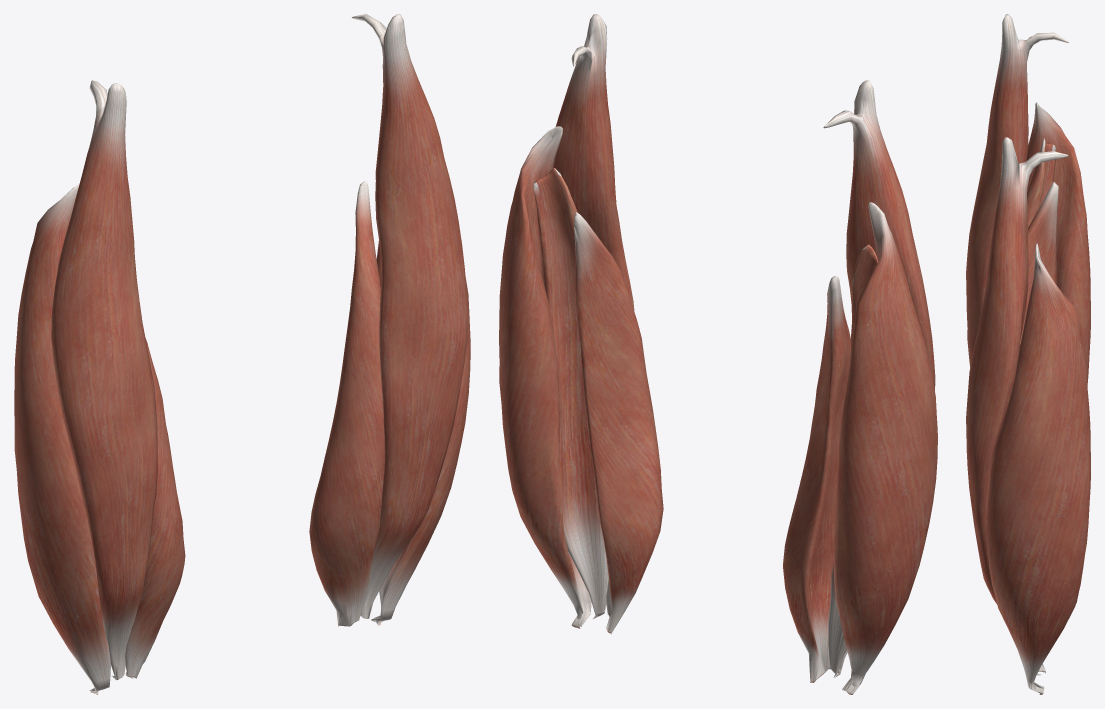
The model's file is quadriceps.glb.
3 views of the same model, side by side, from view 1: azimuth 30°, elevation 25°; view 2: azimuth 150°, elevation 25°; view 3: azimuth 270°, elevation 25° (orthographic). The views are drawn at different scales.
Visible parts, largest first — view 1: Rectus femoris.r, Rectus femoris.l, Vastus lateralis muscle.r, Vastus medialis muscle.l, Vastus medialis muscle.r, Vastus lateralis muscle.l; view 2: Vastus lateralis muscle.r, Vastus medialis muscle.l, Vastus lateralis muscle.l, Vastus intermedius muscle.l, Vastus medialis muscle.r, Rectus femoris.l, Rectus femoris.r, Vastus intermedius muscle.r; view 3: Vastus lateralis muscle.l, Rectus femoris.l, Rectus femoris.r, Vastus lateralis muscle.r, Vastus medialis muscle.r, Vastus intermedius muscle.r.
Part boxes in pixels (bbox=[...]): Rectus femoris.r: bbox=[51, 80, 157, 680]; Rectus femoris.l: bbox=[352, 14, 467, 618]; Vastus lateralis muscle.r: bbox=[14, 184, 110, 694]; Vastus medialis muscle.l: bbox=[309, 181, 384, 626]; Vastus medialis muscle.r: bbox=[125, 338, 185, 678]; Vastus lateralis muscle.l: bbox=[371, 241, 470, 626]; Vastus lateralis muscle.r: bbox=[833, 202, 937, 694]; Vastus medialis muscle.l: bbox=[574, 212, 663, 634]; Vastus lateralis muscle.l: bbox=[499, 126, 591, 628]; Vastus intermedius muscle.l: bbox=[533, 168, 608, 619]; Vastus medialis muscle.r: bbox=[783, 276, 851, 682]; Rectus femoris.l: bbox=[553, 14, 634, 618]; Rectus femoris.r: bbox=[823, 80, 935, 677]; Vastus intermedius muscle.r: bbox=[828, 244, 878, 677]; Vastus lateralis muscle.l: bbox=[986, 243, 1090, 694]; Rectus femoris.l: bbox=[966, 137, 1068, 675]; Rectus femoris.r: bbox=[966, 14, 1068, 367]; Vastus lateralis muscle.r: bbox=[1026, 102, 1090, 384]; Vastus medialis muscle.r: bbox=[1019, 182, 1058, 344]; Vastus intermedius muscle.r: bbox=[1027, 138, 1056, 227].
Bounding box in the file's own units: 0.3221 × 0.4354 × 0.0885.
2 materials, 2 textured.
